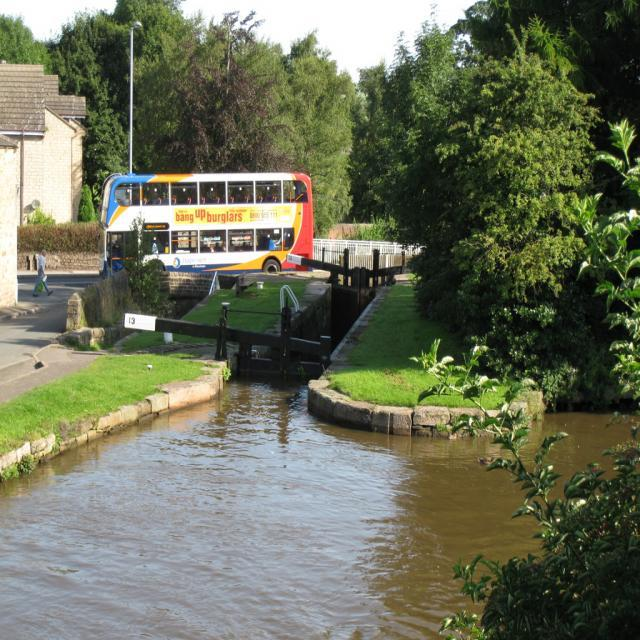motorcycle: (94, 170, 316, 282)
